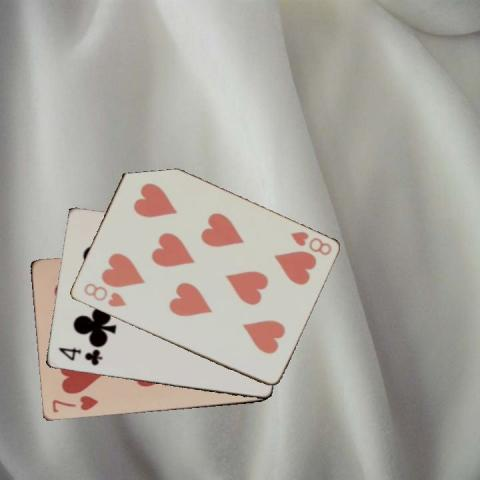4c: (55, 345, 104, 367)
7h: (49, 393, 99, 414)
8h: (80, 280, 127, 309), (287, 228, 333, 257)
